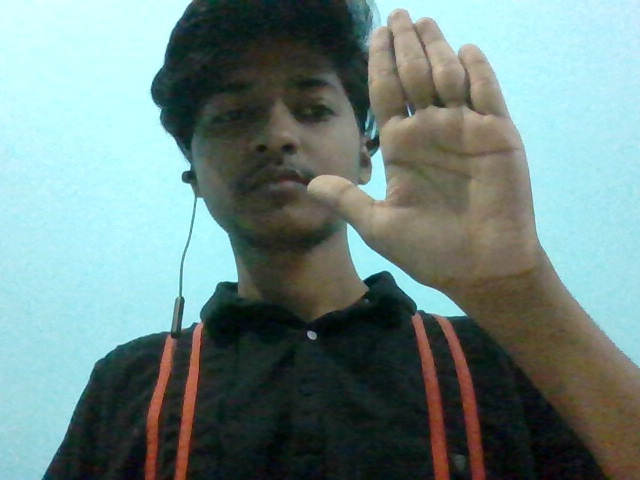hello: (306, 26, 579, 305)
